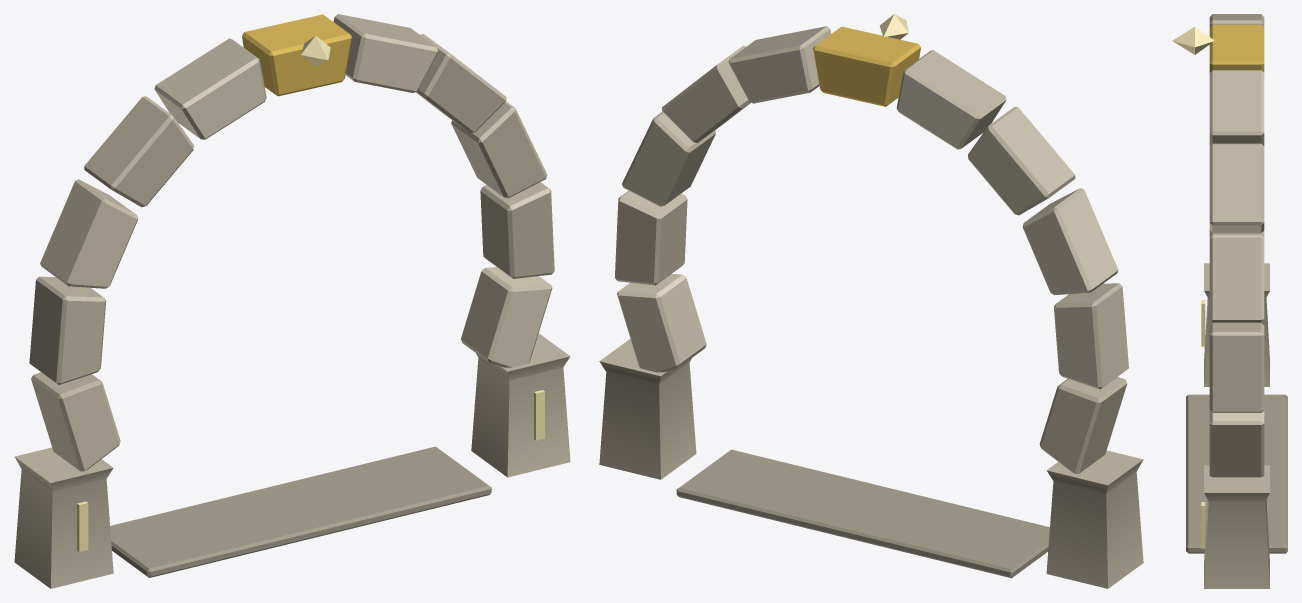
Rendered from portal_frame.glb.
The picture shows the model from 3 angles, left to right: view 1: azimuth 30°, elevation 25°; view 2: azimuth 150°, elevation 25°; view 3: azimuth 270°, elevation 25°; orthographic projection. The views are drawn at different scales.
Parts seen in each view (by area): view 1: portal_frame, portal_frame_glow; view 2: portal_frame; view 3: portal_frame, portal_frame_glow.
Boxes of the visible parts, left/top/right/bottom form: portal_frame: left=14, top=14, right=570, bottom=588; portal_frame_glow: left=77, top=35, right=544, bottom=551; portal_frame: left=599, top=26, right=1143, bottom=588; portal_frame: left=1186, top=14, right=1287, bottom=588; portal_frame_glow: left=1172, top=27, right=1214, bottom=548.
Size of the model in its own units: 6.94 by 6.36 by 1.48.
